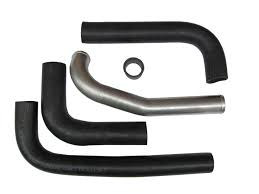radiator_hose: (16, 102, 213, 177), (82, 22, 229, 82), (42, 62, 147, 144)
